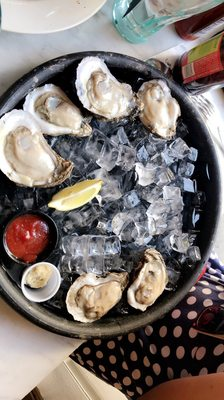sushi: (20, 261, 62, 303)
